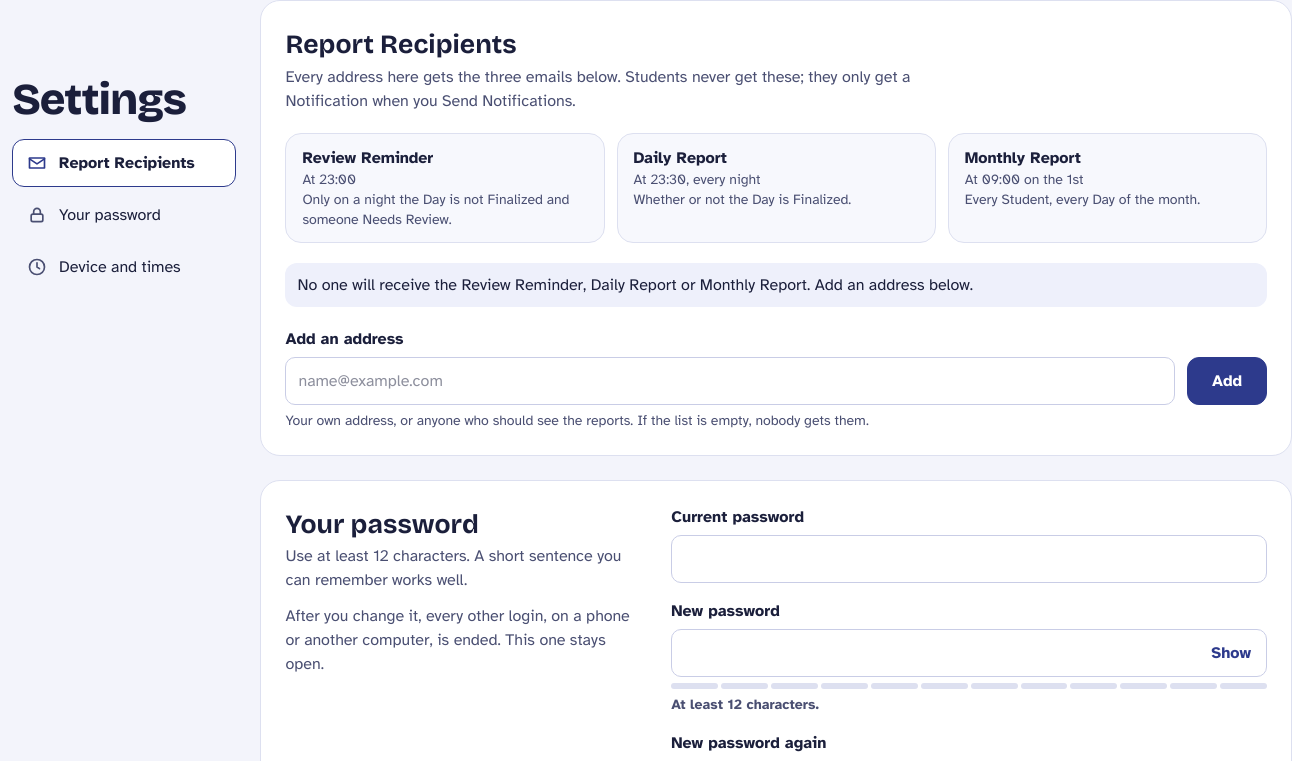
Test case: Report Recipients › shows why an address was refused, and keeps what was typed
Expected: the text "No one will receive the Review Reminder, Daily Report or Monthly Report. Add an address below." is shown, [297,275,973,295]
Type "office at example" into the field labelled "Add an address" at (730, 381), box [285,357,1175,405]
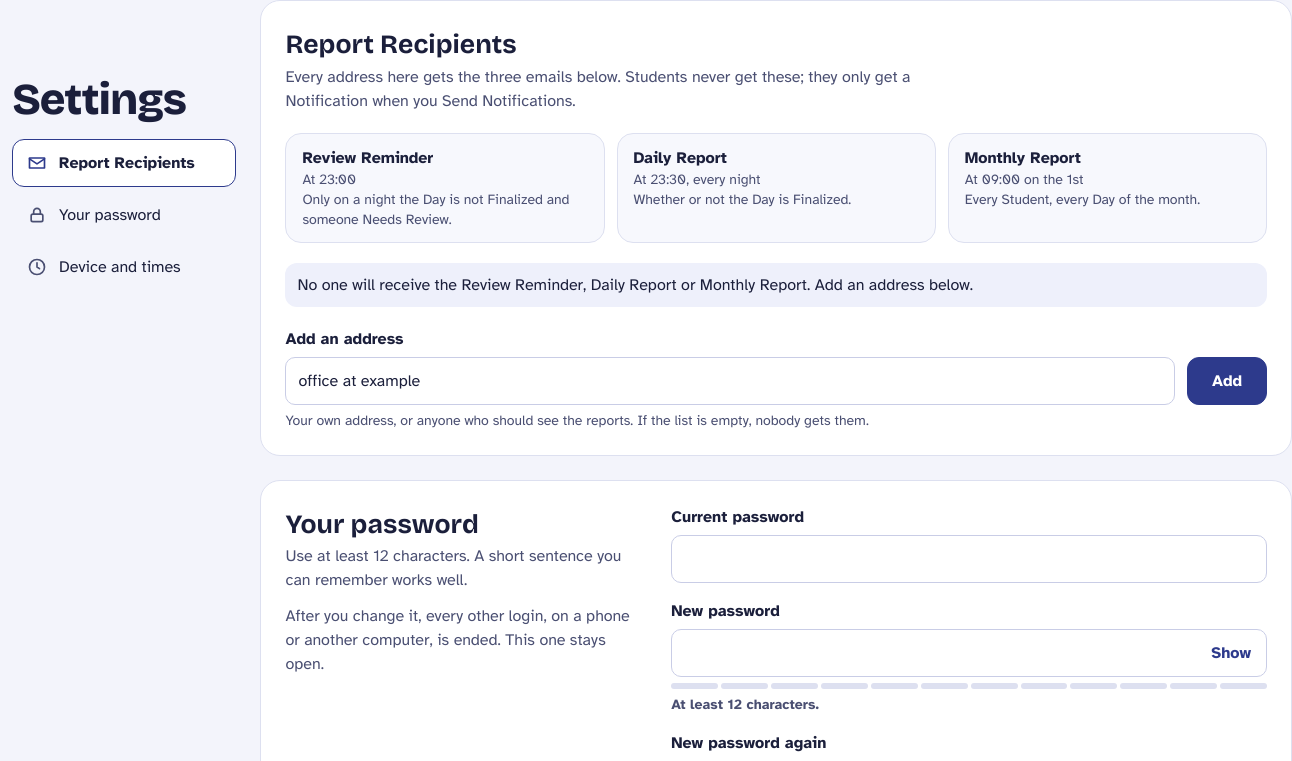
Click the button "Add" at (1227, 381), box [1187,357,1267,405]
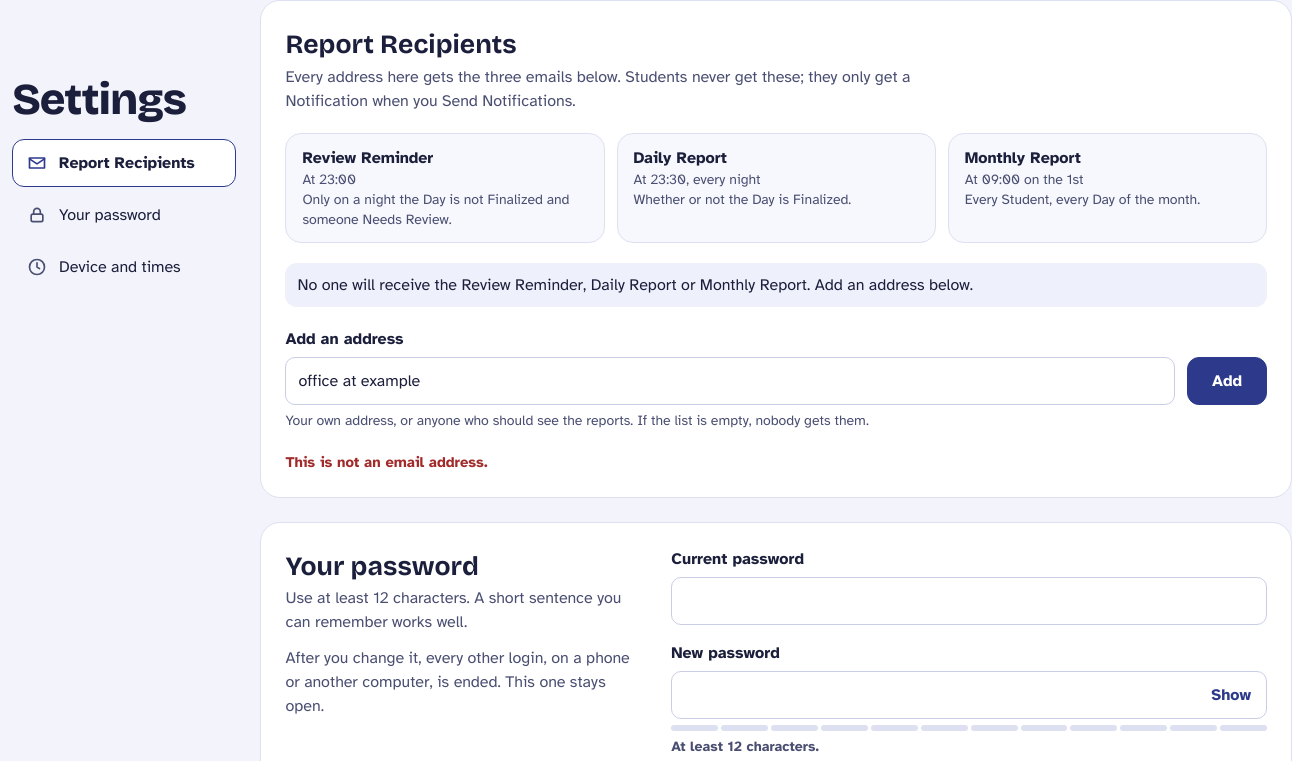
Result: the text "This is not an email address." is shown at [285,453,488,471]
